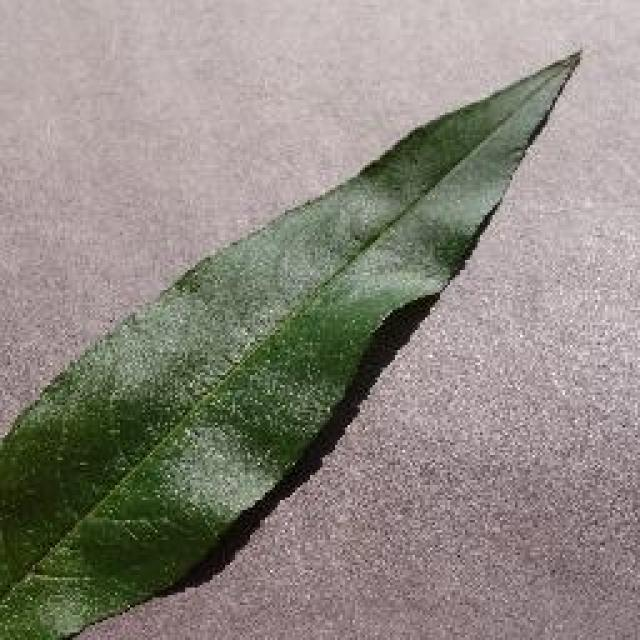Pea_healthy: (59, 111, 528, 541)
